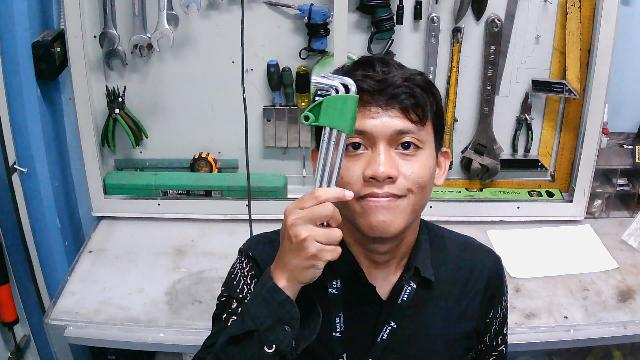kunci_l_bintang: (298, 69, 362, 242)
